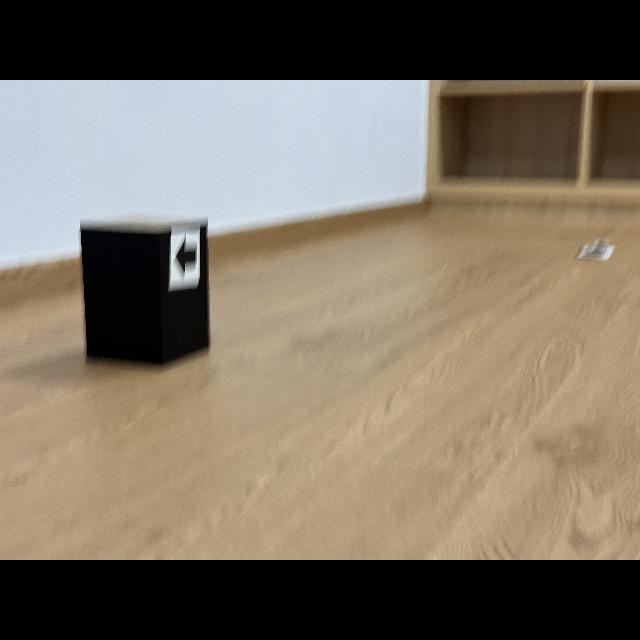LEFT: (176, 238, 196, 274)
